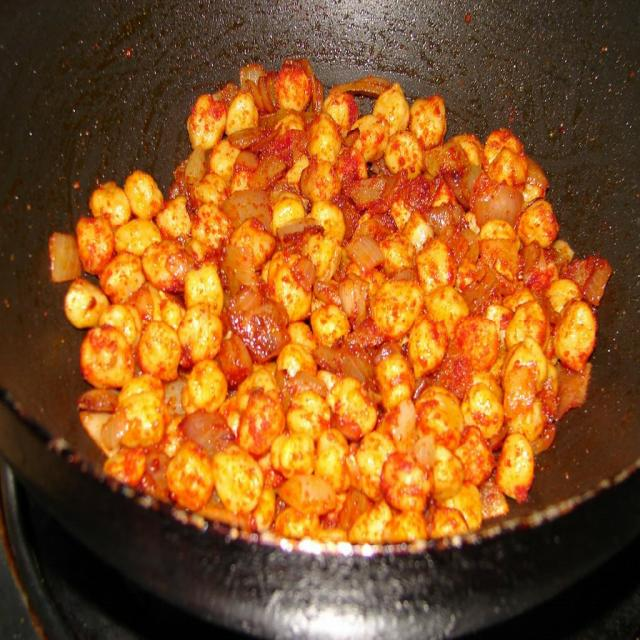Chole: (50, 56, 610, 547)
